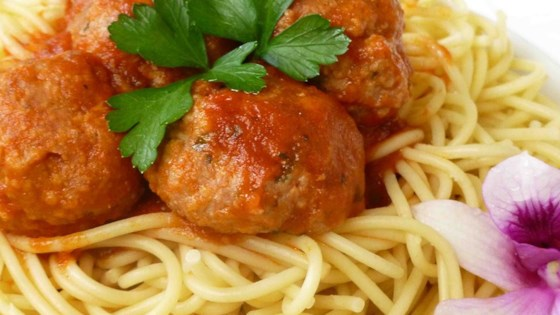meatballs: (146, 75, 368, 231), (1, 56, 130, 226), (280, 1, 415, 121)
plain spaghetti: (1, 215, 458, 315), (389, 1, 556, 210)
